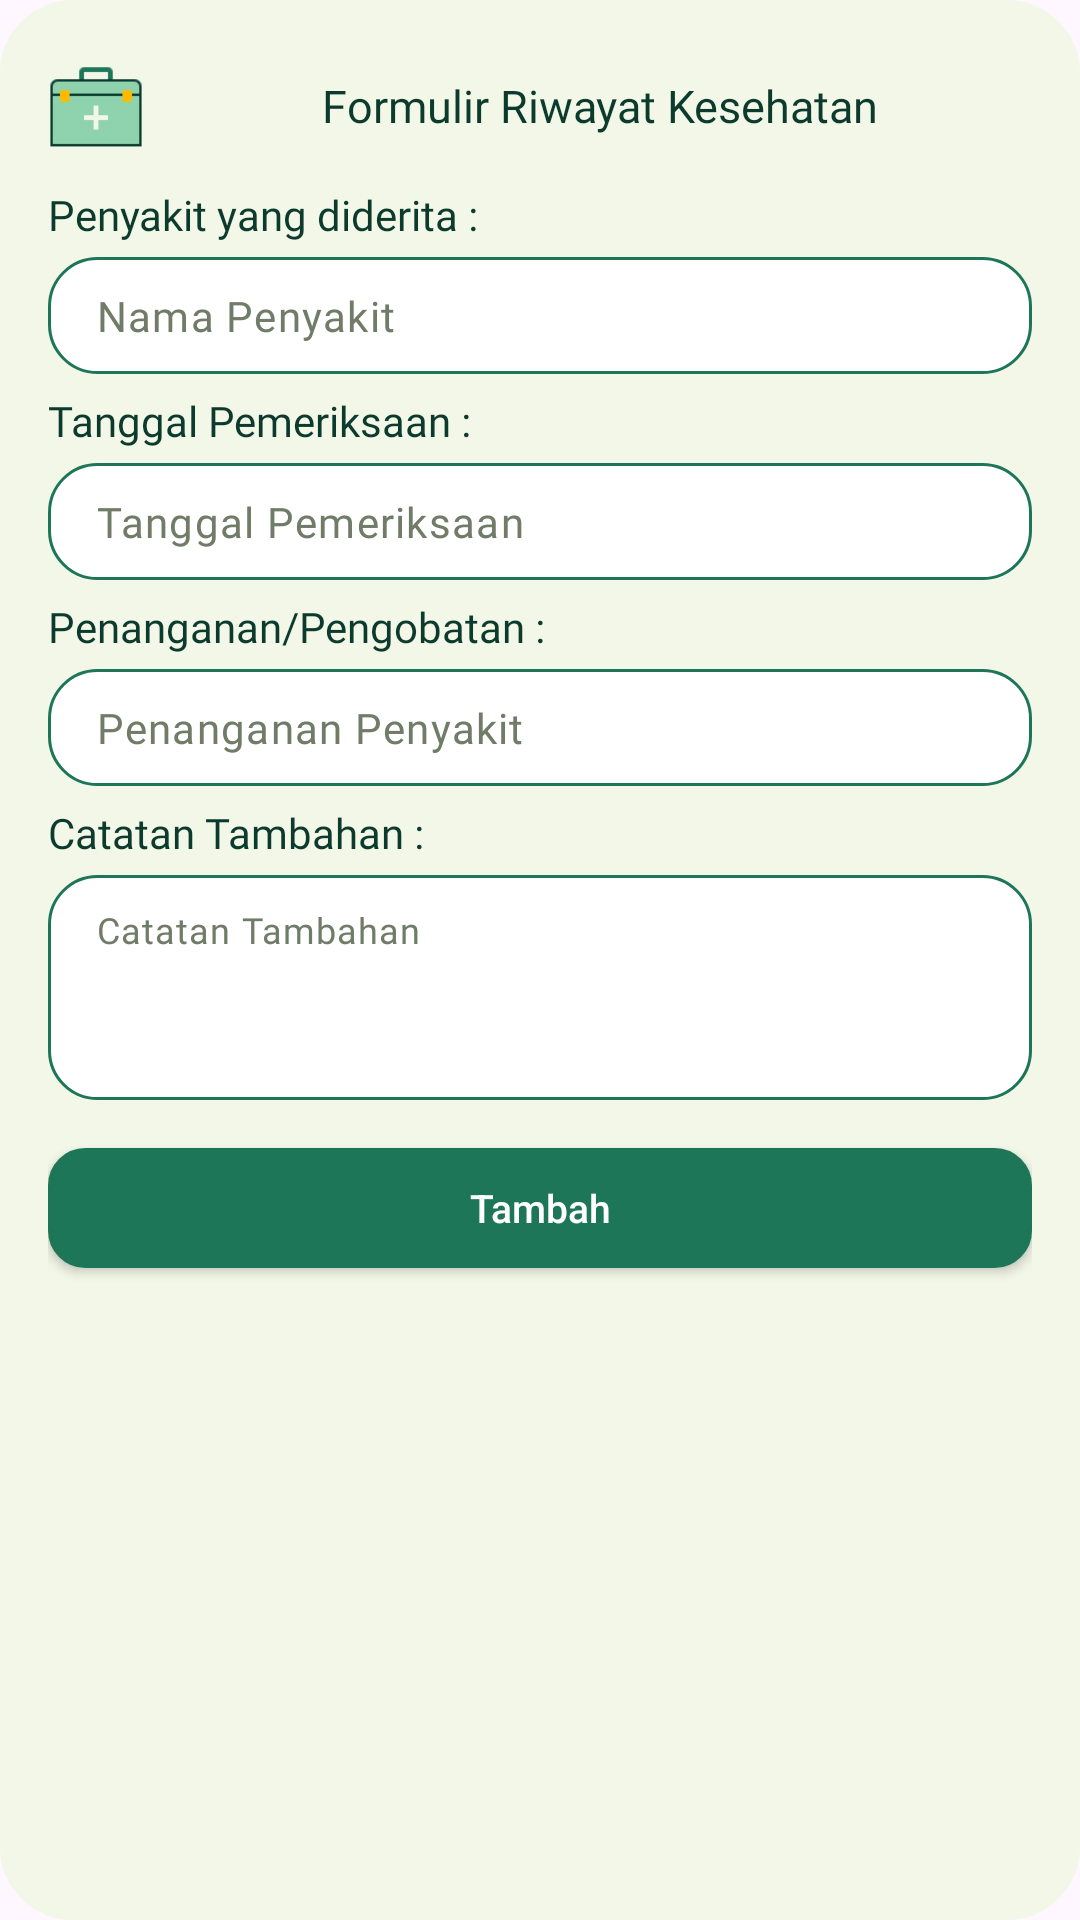

Where icons sit on this 1080w x 1920h app screen, as rect(x1, y1, x2, y2):
health: rect(50, 67, 142, 147)
